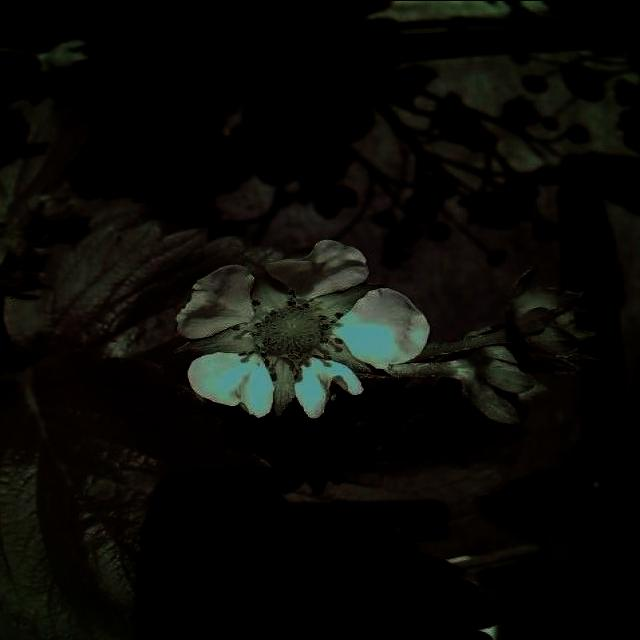flower: (172, 228, 440, 422)
